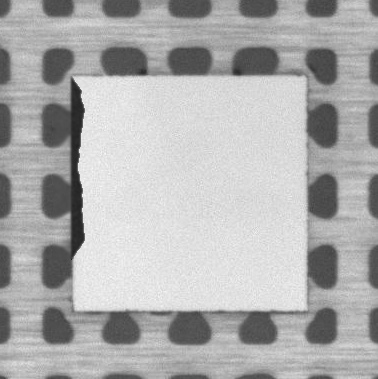DIE_BROKEN: (68, 72, 86, 259)
